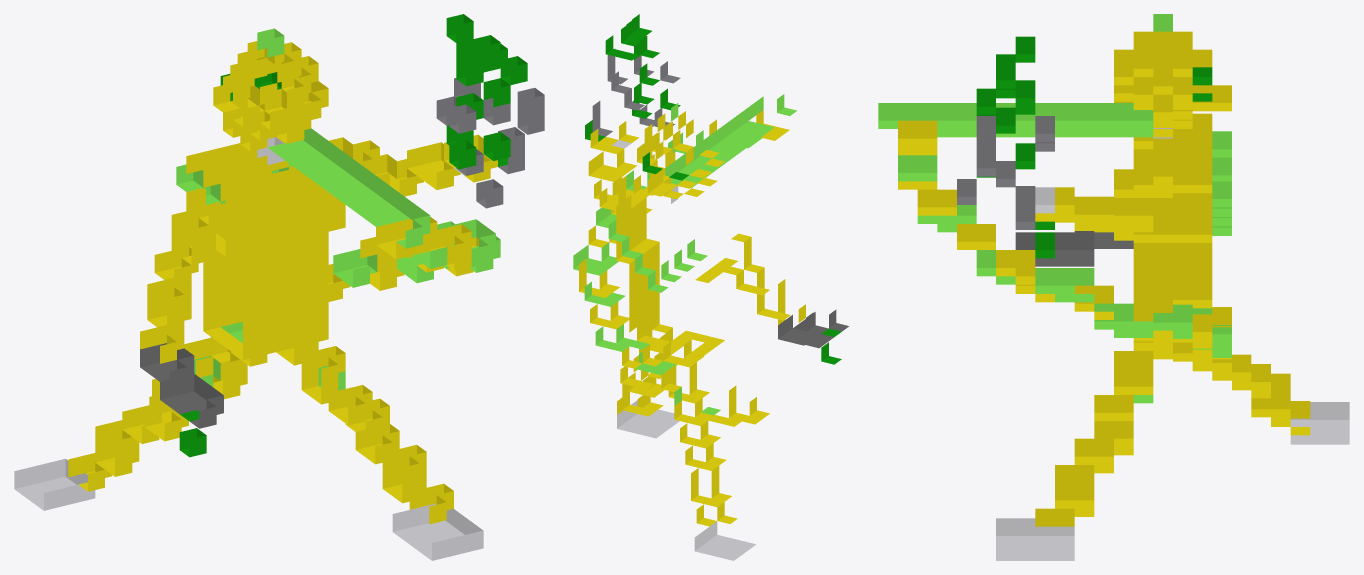
The model's file is viper.glb.
3 views of the same model, side by side, from view 1: azimuth 30°, elevation 25°; view 2: azimuth 150°, elevation 25°; view 3: azimuth 270°, elevation 25° (orthographic). The views are drawn at different scales.
Visible parts, largest first — view 1: Character; view 2: Character; view 3: Character.
Boxes of the visible parts, box(x1,y1,x2,y2) form: Character: box(14, 14, 544, 560); Character: box(573, 14, 849, 560); Character: box(878, 14, 1349, 560).
Size of the model in its own units: 1.34 by 1.95 by 1.61.
